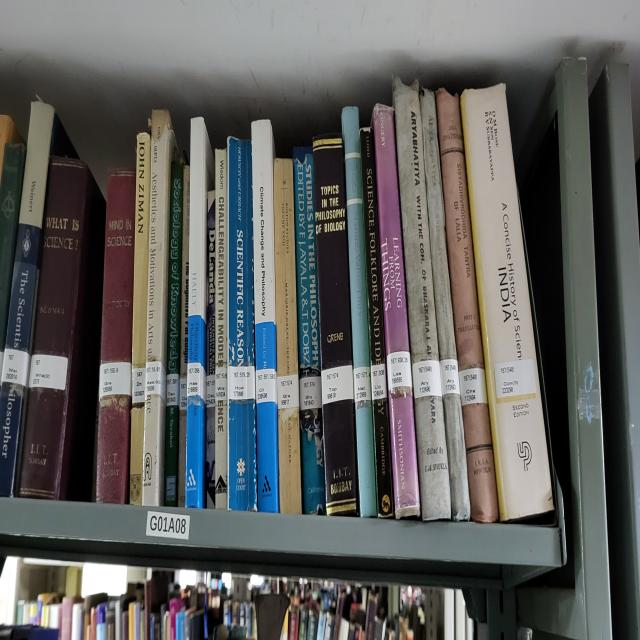Book: (460, 84, 552, 519), (0, 100, 78, 498), (19, 157, 105, 501), (436, 89, 499, 522), (392, 84, 450, 519), (420, 89, 470, 522), (372, 106, 420, 517), (312, 135, 358, 514), (341, 108, 378, 517), (142, 111, 178, 506), (96, 168, 136, 503), (360, 127, 394, 517), (292, 146, 325, 514), (185, 116, 214, 509), (228, 138, 258, 511), (251, 119, 279, 511), (274, 160, 301, 514), (130, 133, 151, 506), (164, 162, 184, 506), (215, 149, 228, 509), (178, 165, 190, 506), (205, 192, 216, 509), (186, 319, 188, 325)
Label: (29, 354, 68, 390), (321, 365, 354, 406), (1, 346, 30, 387), (412, 360, 442, 398), (99, 363, 131, 398), (459, 368, 488, 406), (386, 352, 412, 392), (228, 365, 255, 400), (145, 360, 166, 400), (299, 376, 322, 411), (278, 373, 299, 409), (354, 365, 371, 409), (186, 363, 206, 400), (255, 368, 276, 403), (440, 360, 460, 395), (371, 363, 388, 400), (132, 365, 145, 403), (215, 368, 228, 403), (166, 373, 179, 406), (179, 376, 188, 411), (206, 373, 215, 406)
